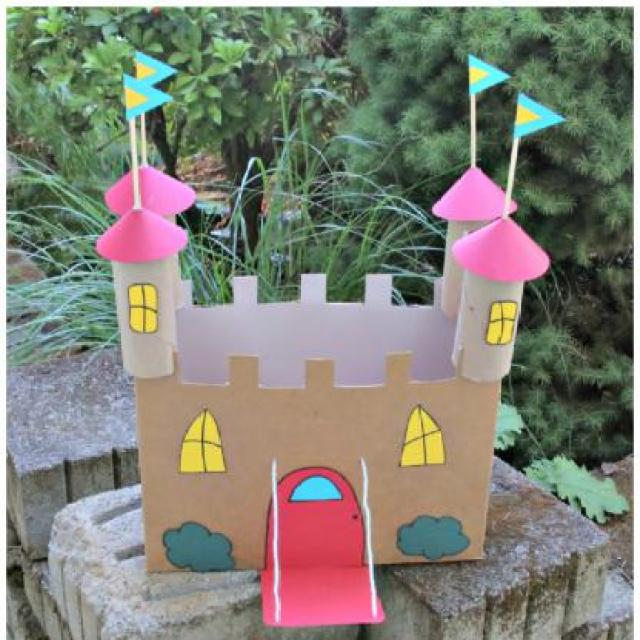box: (87, 141, 578, 640)
